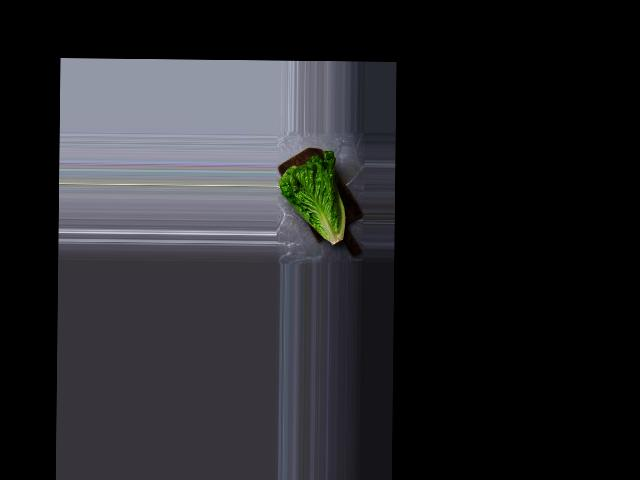lettuce: (280, 149, 365, 261)
